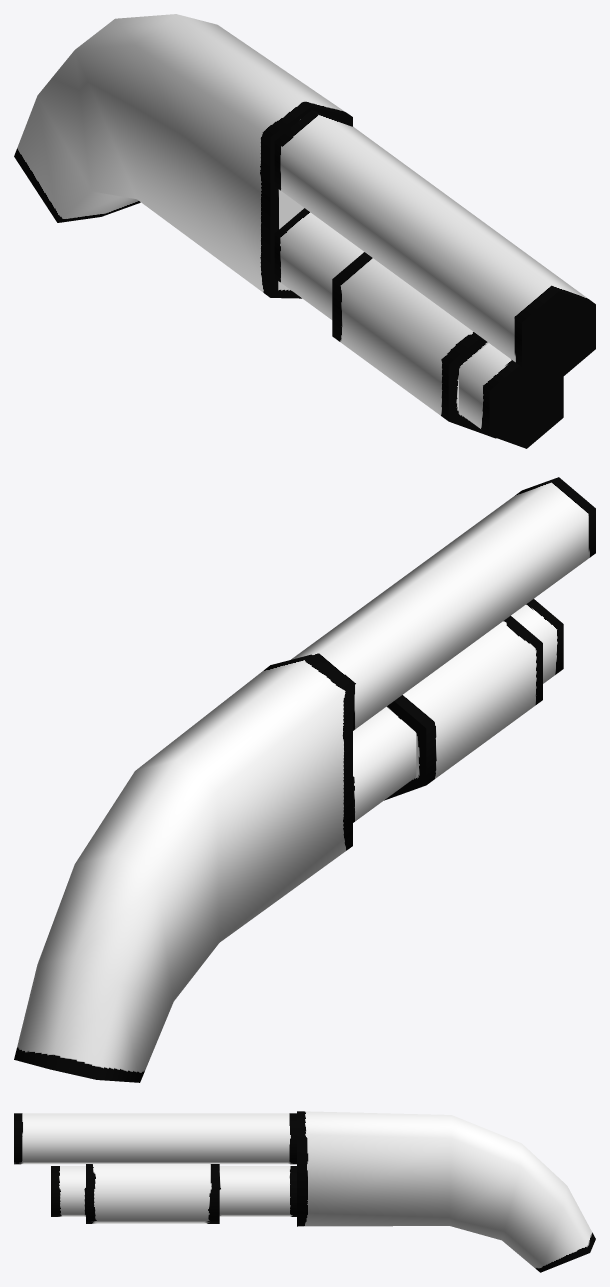
The model's file is Shotgun.fbx.
3 renders of one model, top to bottom at view 1: azimuth 30°, elevation 25°; view 2: azimuth 150°, elevation 25°; view 3: azimuth 270°, elevation 25°, orthographic. The views are drawn at different scales.
Visible parts, largest first — view 1: Shotgun; view 2: Shotgun; view 3: Shotgun.
Part boxes in pixels (<box>): Shotgun: <box>14,14,595,448</box>; Shotgun: <box>14,477,595,1082</box>; Shotgun: <box>14,1111,595,1272</box>.
Bounding box in the file's own units: 0.1141 × 0.306 × 1.07.
1 material, 1 textured.
